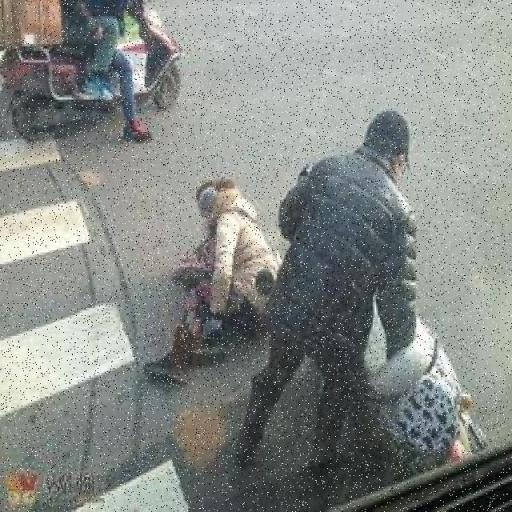Fall: (138, 160, 279, 382)
